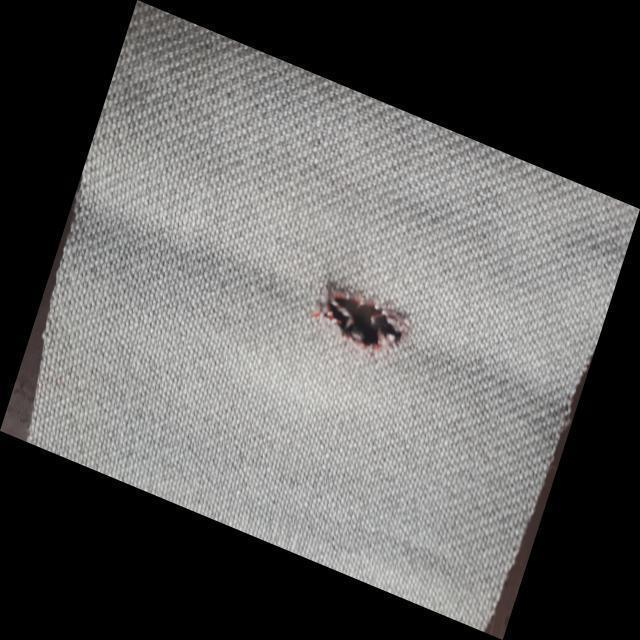other: (320, 275, 408, 361)
